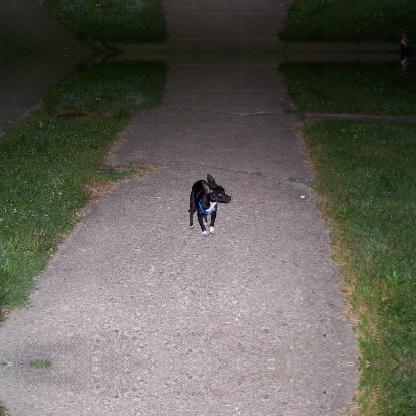Dog: (185, 173, 233, 235)
